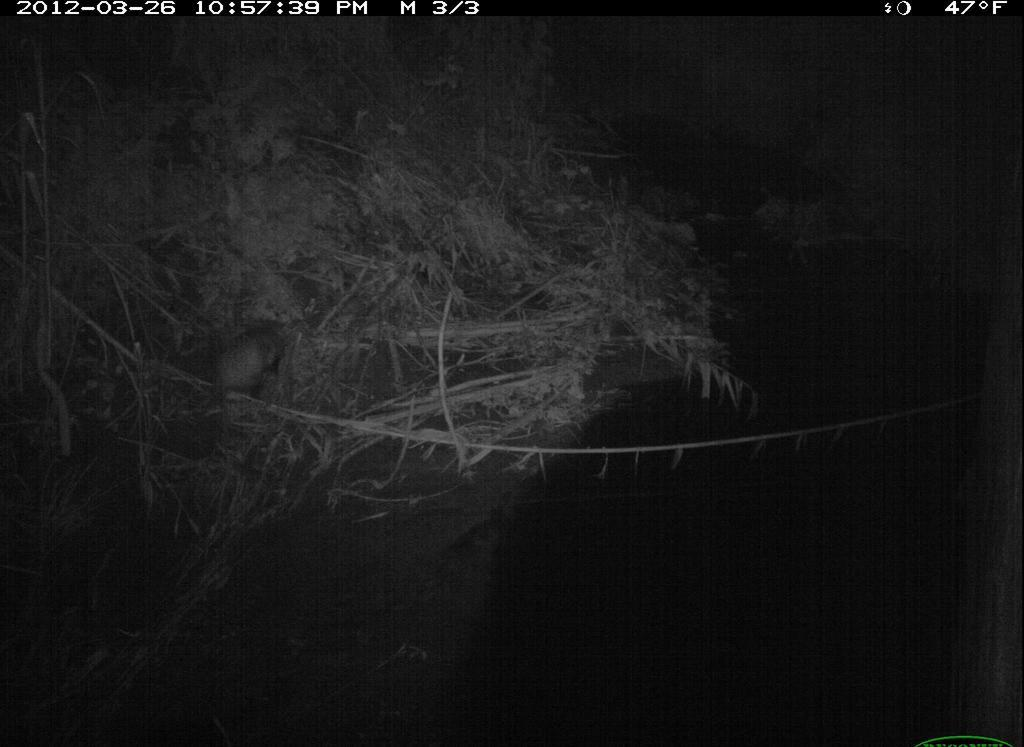opossum: (193, 312, 304, 432)
